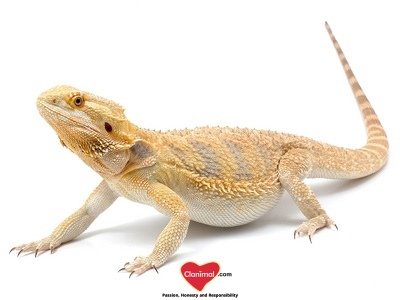bearded: (10, 20, 390, 281)
